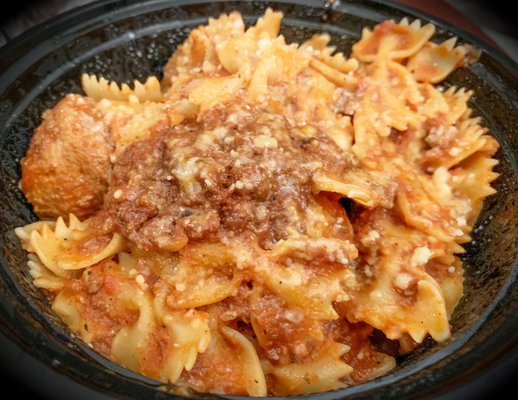sushi: (1, 1, 481, 392)
